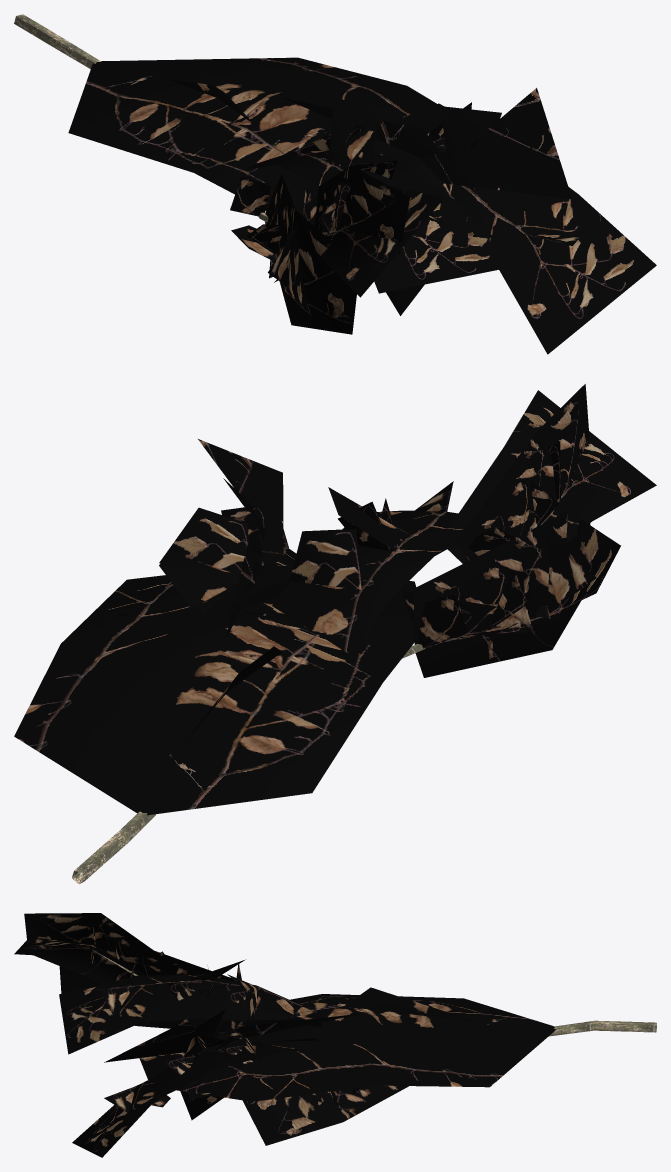
File: SM_Branch_B_02.fbx
3 renders of one model, top to bottom at view 1: azimuth 30°, elevation 25°; view 2: azimuth 150°, elevation 25°; view 3: azimuth 270°, elevation 25°, orthographic. The views are drawn at different scales.
Parts seen in each view (by area): view 1: SM_Branch_B_02; view 2: SM_Branch_B_02; view 3: SM_Branch_B_02.
Boxes of the visible parts, x1,y1,x2,y2 form: SM_Branch_B_02: (14, 14, 656, 354); SM_Branch_B_02: (14, 384, 656, 884); SM_Branch_B_02: (14, 913, 656, 1157).
Size of the model in its own units: 114 by 225 by 65.49.
2 materials, 2 textured.
